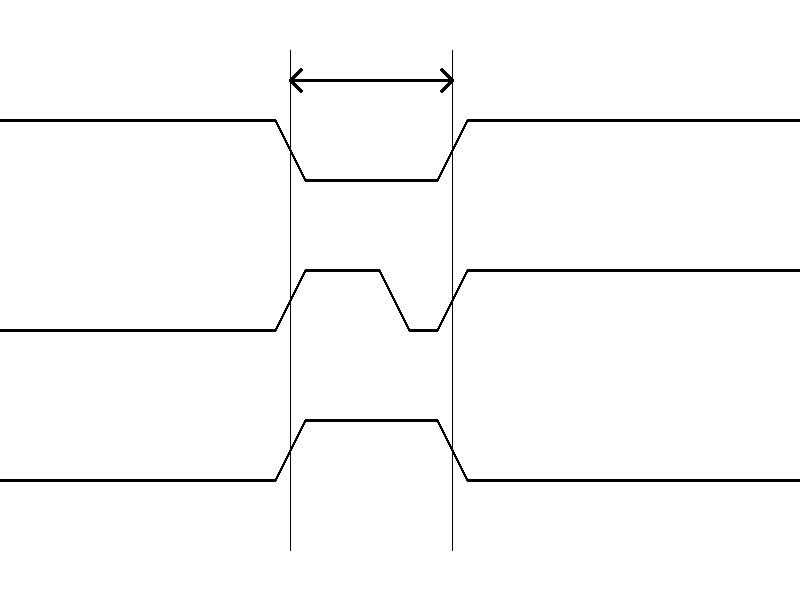double_arrow: (290, 65, 452, 95)
